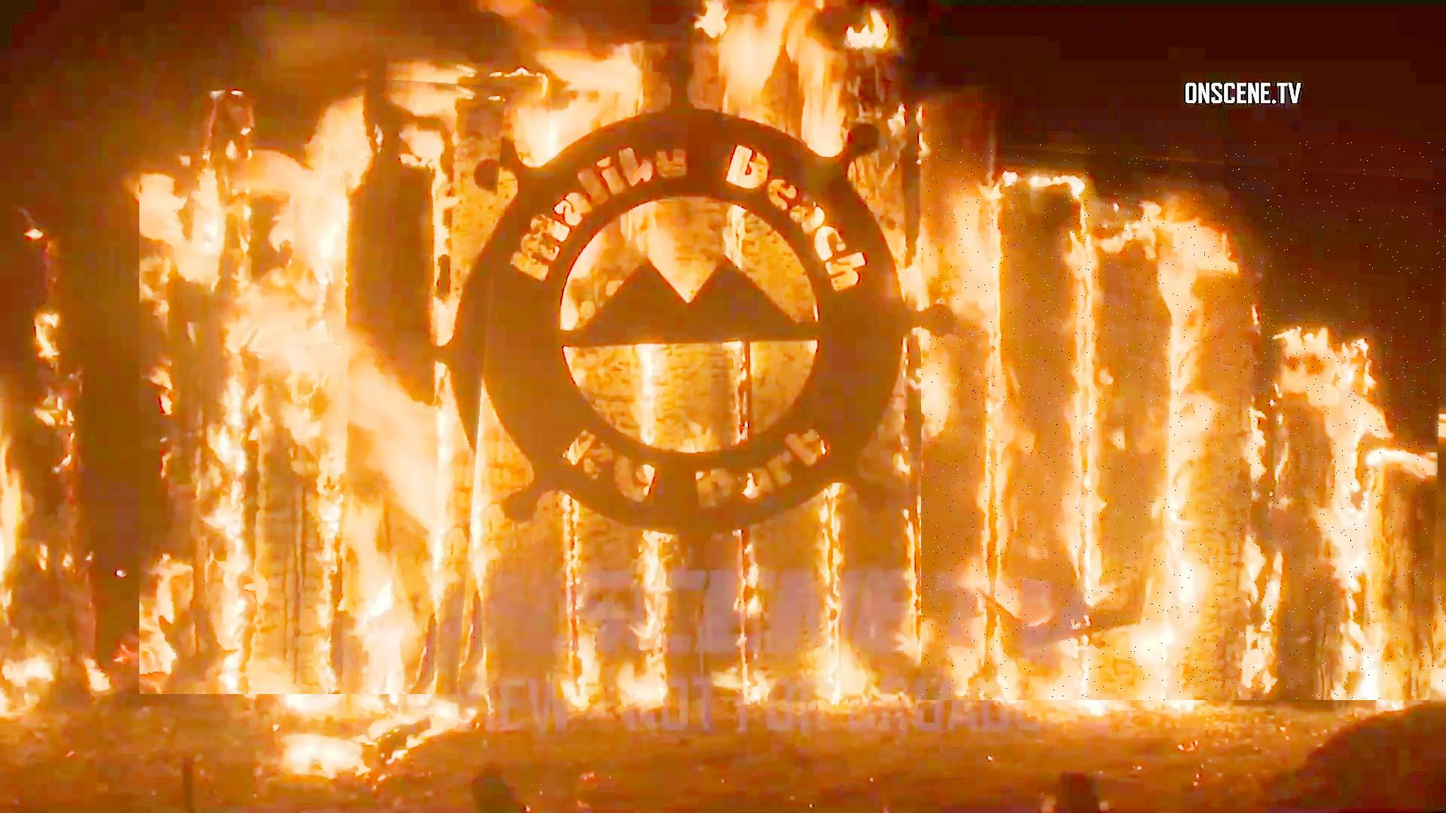fire: (921, 142, 1446, 700), (140, 63, 508, 694)
